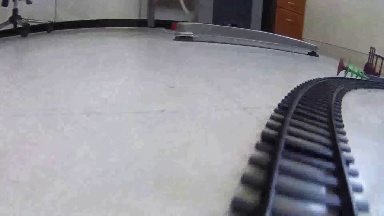tree: (336, 57, 370, 81)
